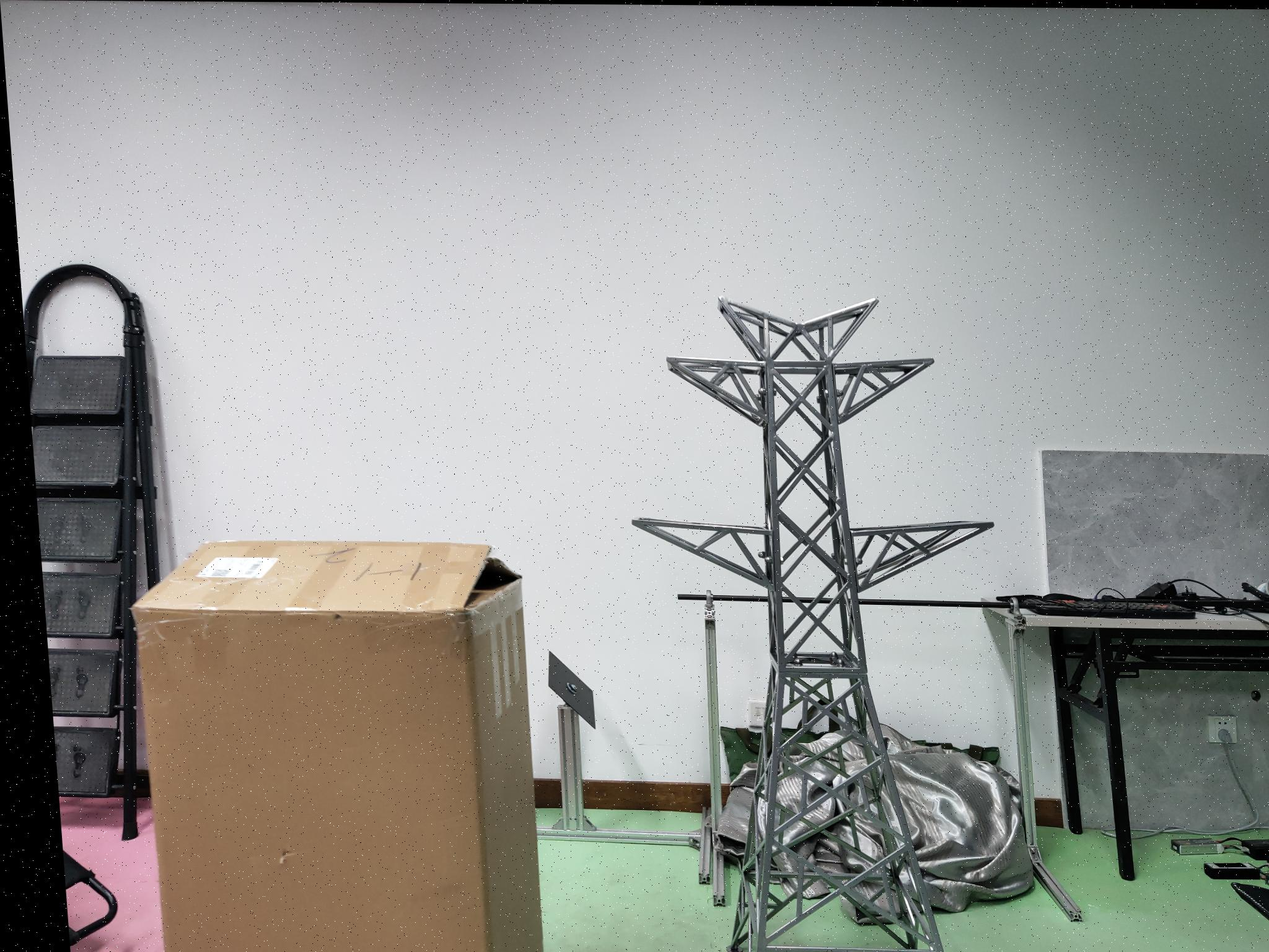tower: (614, 298, 1023, 952)
